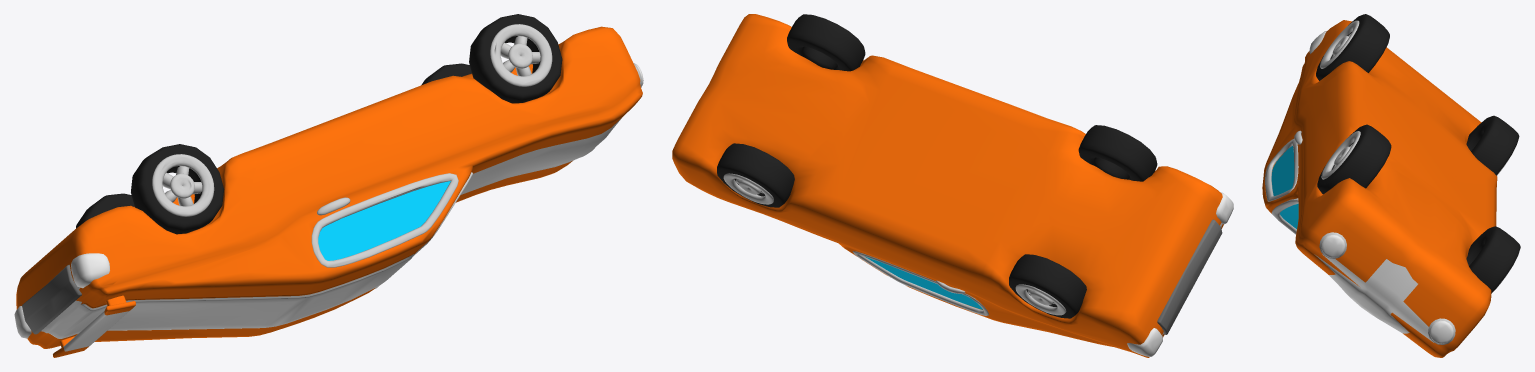
Rendered from car.fbx.
3 views of the same model, side by side, from view 1: azimuth 30°, elevation 25°; view 2: azimuth 150°, elevation 25°; view 3: azimuth 270°, elevation 25° (orthographic). The views are drawn at different scales.
Parts seen in each view (by area): view 1: car; view 2: car; view 3: car.
Boxes of the visible parts, x1,y1,x2,y2 form: car: (14, 14, 643, 357); car: (672, 14, 1233, 357); car: (1262, 14, 1520, 357).
Size of the model in its own units: 712 by 329 by 296.
